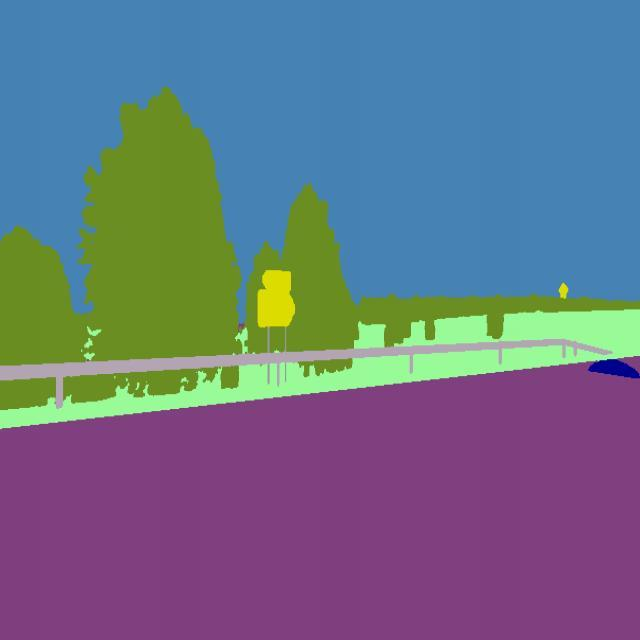safe: (581, 348, 640, 391)
